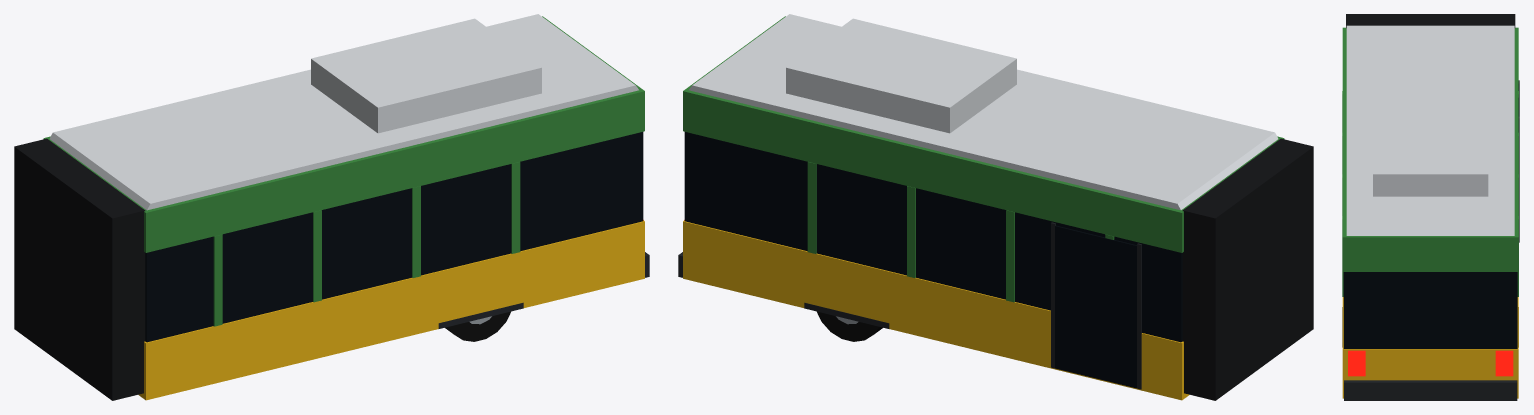
File: bus60r-green.glb
3 renders of one model, left to right at view 1: azimuth 30°, elevation 25°; view 2: azimuth 150°, elevation 25°; view 3: azimuth 270°, elevation 25°, orthographic. The views are drawn at different scales.
Parts seen in each view (by area): view 1: bus60-rear; view 2: bus60-rear; view 3: bus60-rear.
Boxes of the visible parts, bbox=[...] form: bus60-rear: bbox=[14, 14, 649, 400]; bus60-rear: bbox=[678, 14, 1313, 400]; bus60-rear: bbox=[1342, 14, 1519, 400].
Size of the model in its own units: 7.84 by 3.37 by 2.61.
